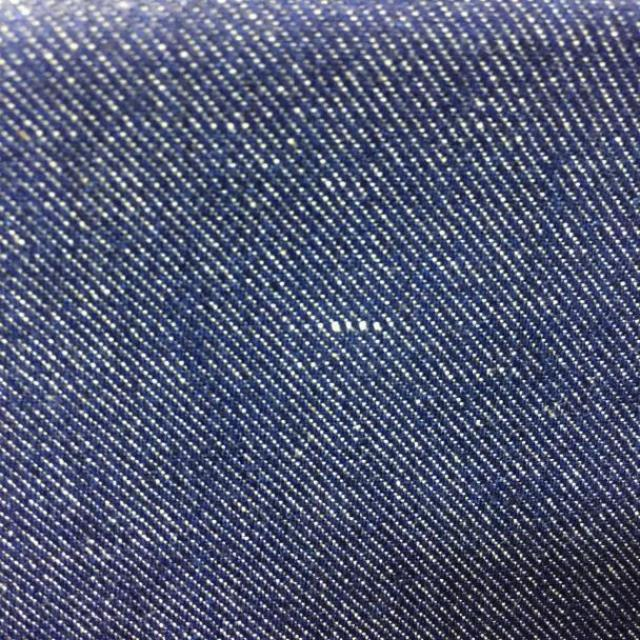Knot: (331, 319, 383, 334)
